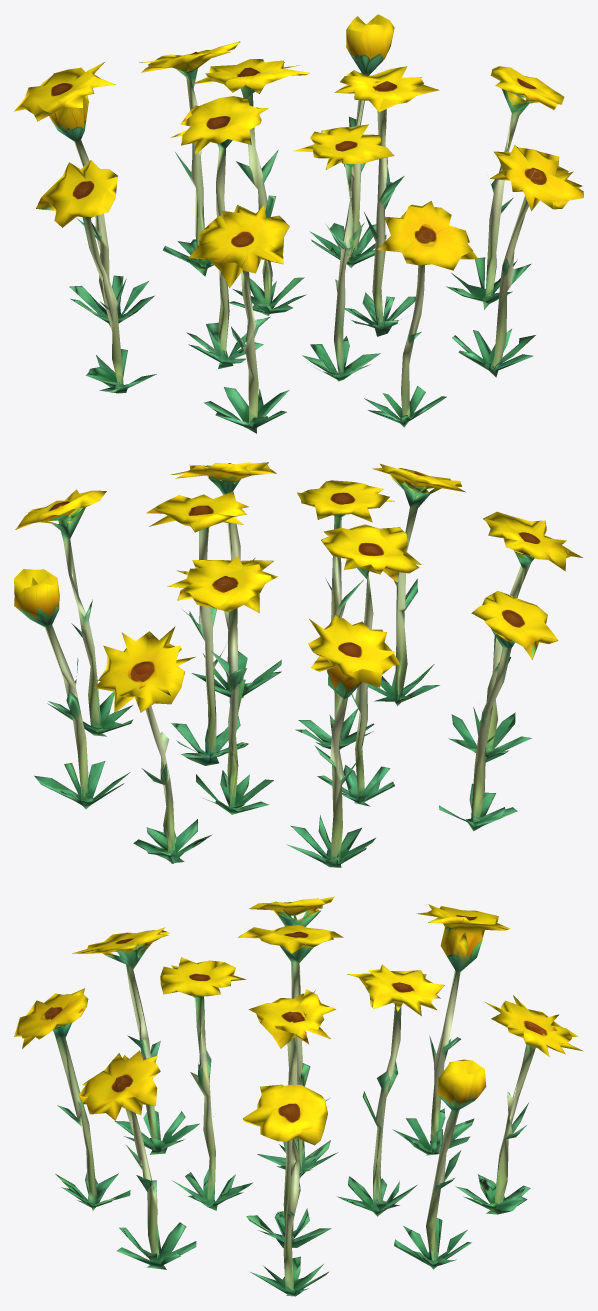
3 views of the same model, one above another, from view 1: azimuth 30°, elevation 25°; view 2: azimuth 150°, elevation 25°; view 3: azimuth 270°, elevation 25° (orthographic). The views are drawn at different scales.
Parts seen in each view (by area): view 1: Mesh_0; view 2: Mesh_0; view 3: Mesh_0.
Part boxes in pixels (x1,y1,x2,y2): Mesh_0: (14, 14, 583, 433); Mesh_0: (14, 462, 582, 867); Mesh_0: (14, 896, 583, 1296).
Bounding box in the file's own units: 1.87 × 0.9046 × 1.88.
Materials: 1 (1 with a texture image).
